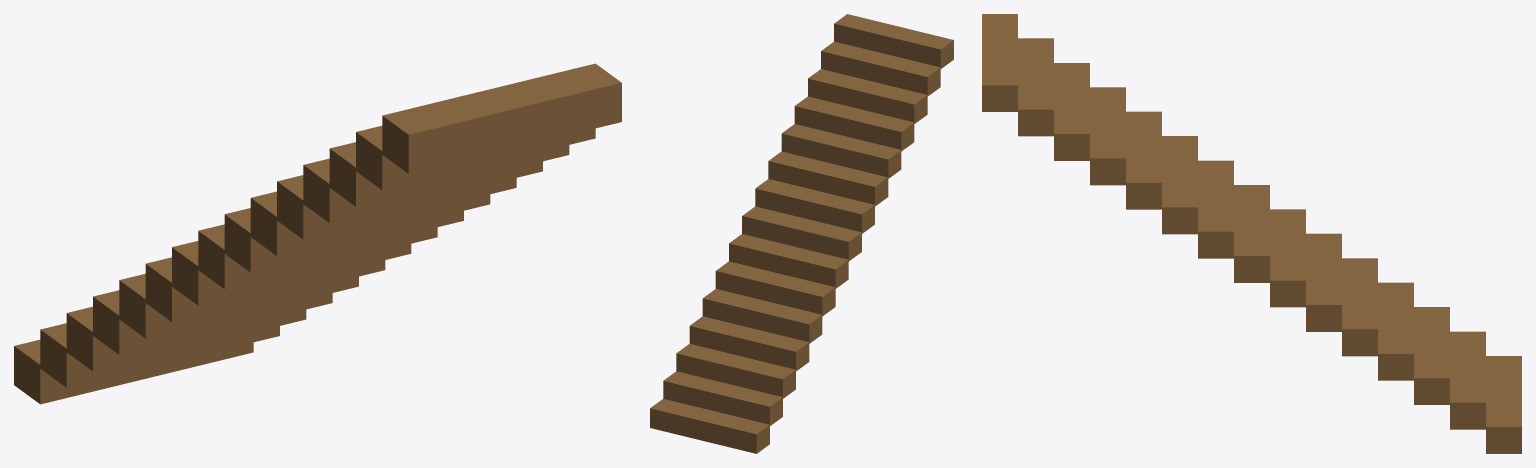
Rendered from module_stairs.glb.
The picture shows the model from 3 angles, left to right: view 1: azimuth 30°, elevation 25°; view 2: azimuth 150°, elevation 25°; view 3: azimuth 270°, elevation 25°; orthographic projection. The views are drawn at different scales.
Visible parts, largest first — view 1: body; view 2: body; view 3: body.
Boxes of the visible parts, box(x1,y1,x2,y2) form: body: box(14, 63, 621, 404); body: box(650, 14, 953, 453); body: box(982, 14, 1521, 453).
Size of the model in its own units: 1.25 by 3.02 by 4.01.
